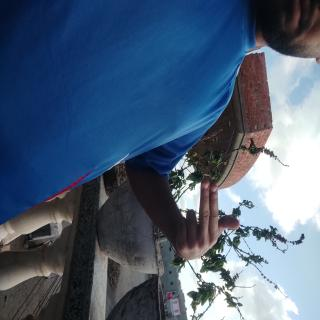GHAYN: (131, 103, 199, 219)
